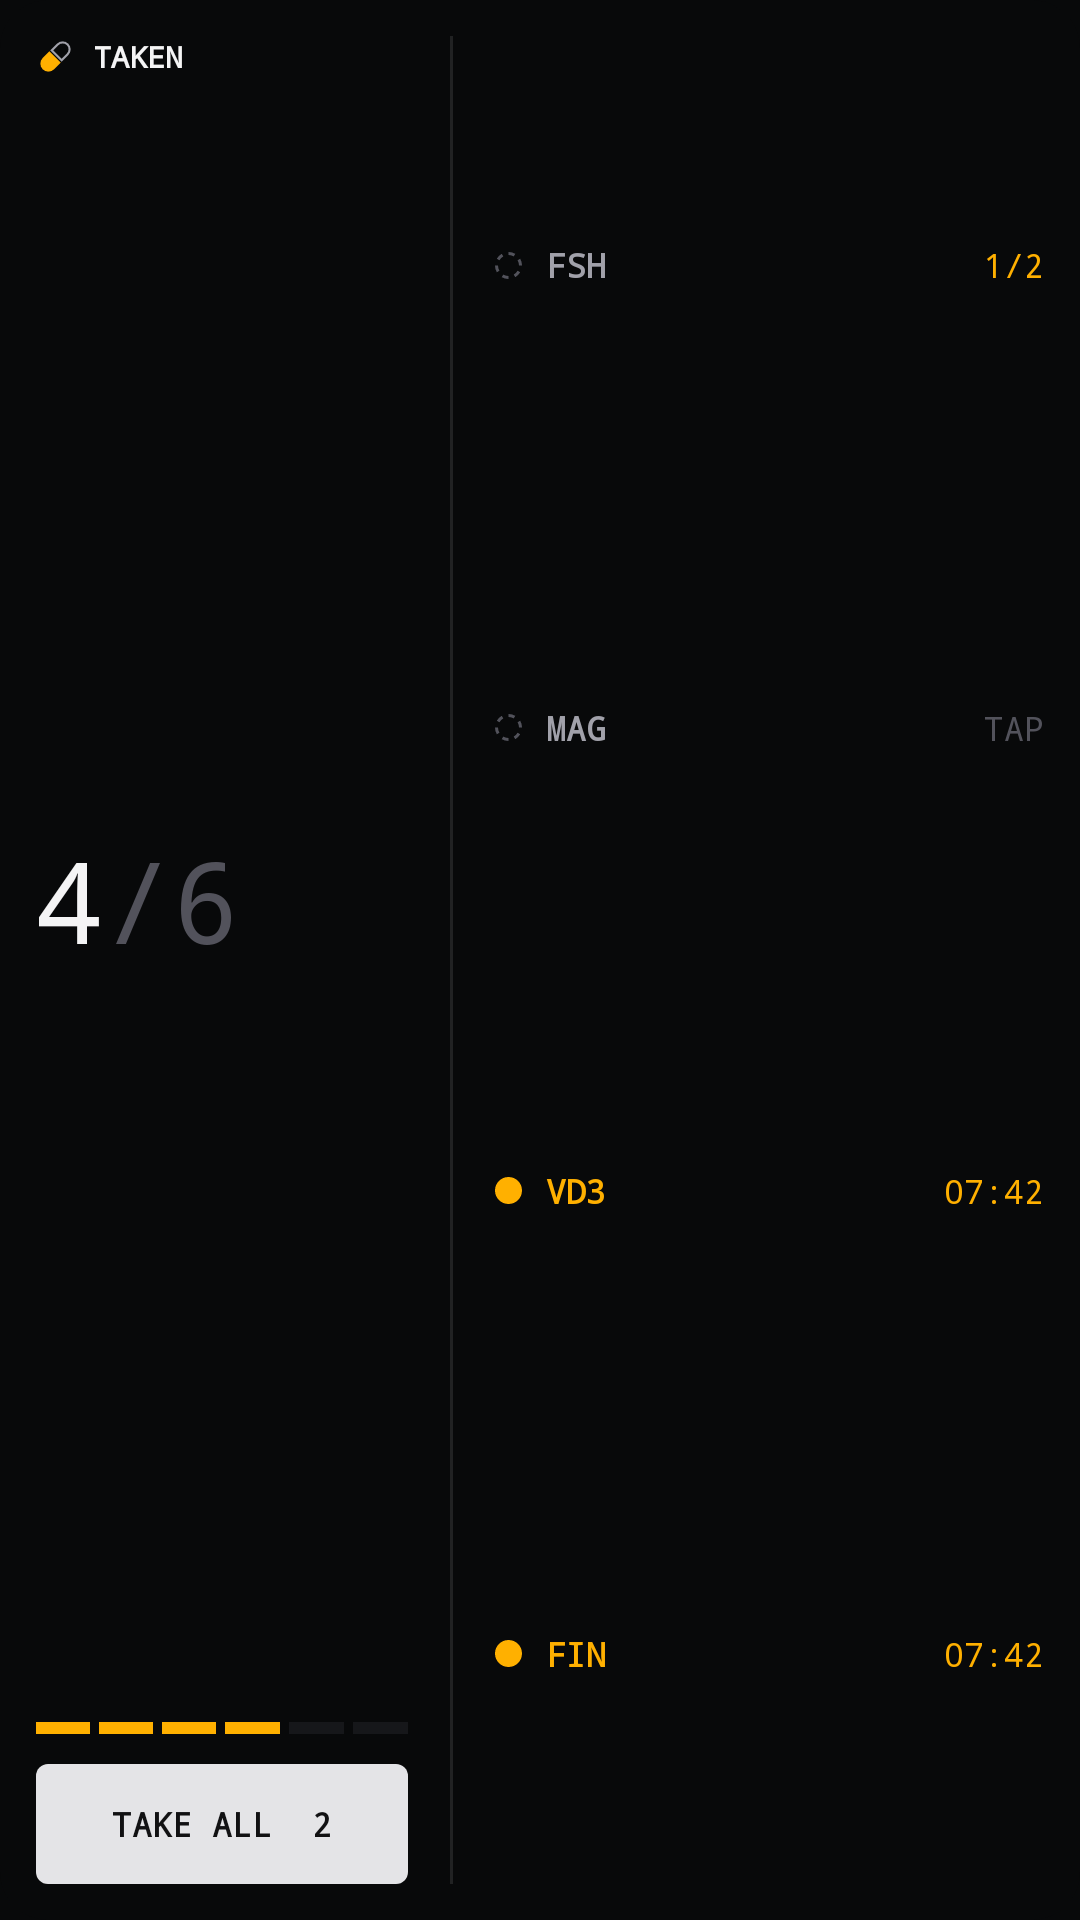

Screen size 1080px x 1920px. Icon name, then its box in pixels as [left=x1, top=y1, right=x2, bottom=y2]:
widget ring dashed: [left=495, top=252, right=522, bottom=279], [left=495, top=714, right=522, bottom=741]
